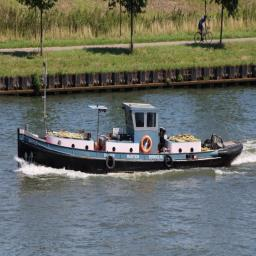tugboat: (17, 101, 245, 180)
